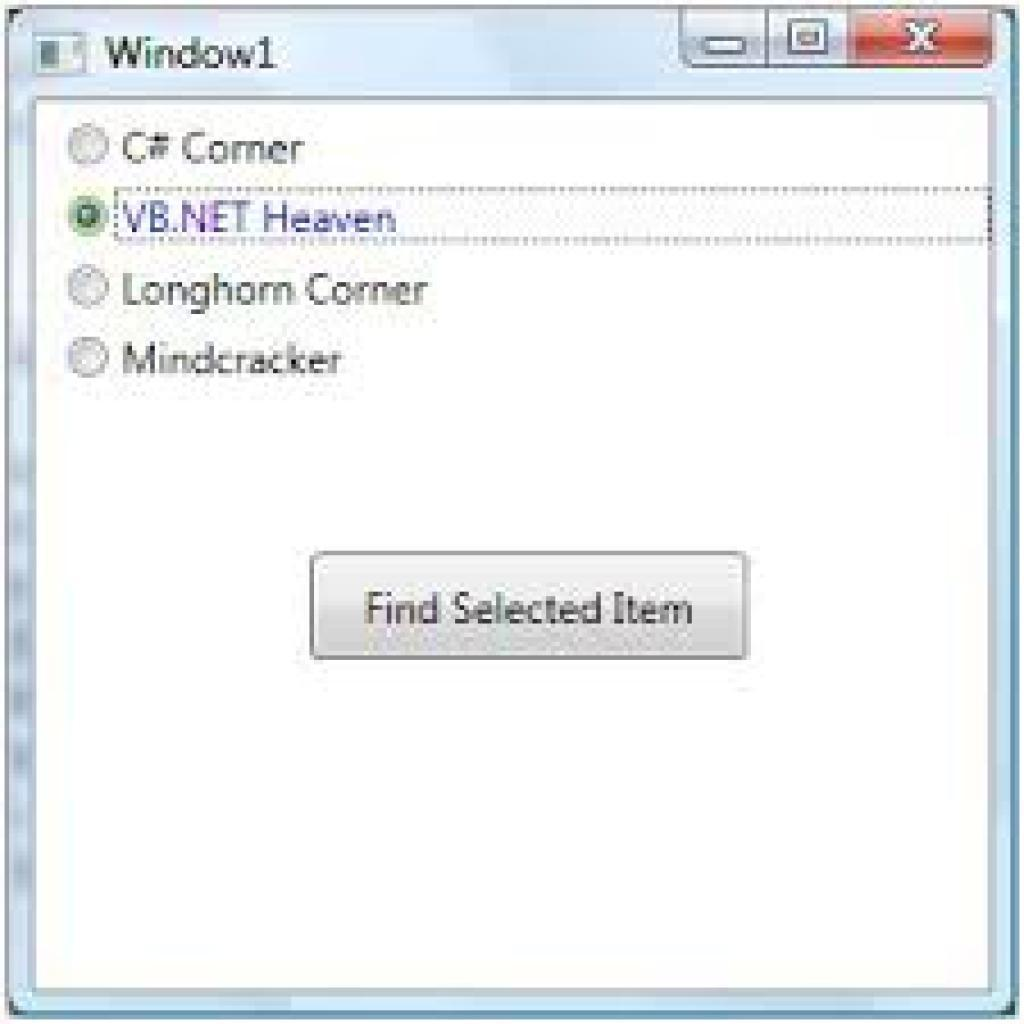button: (312, 554, 748, 660)
radio: (68, 262, 114, 315), (67, 123, 112, 172), (66, 336, 112, 382), (69, 193, 112, 238)
